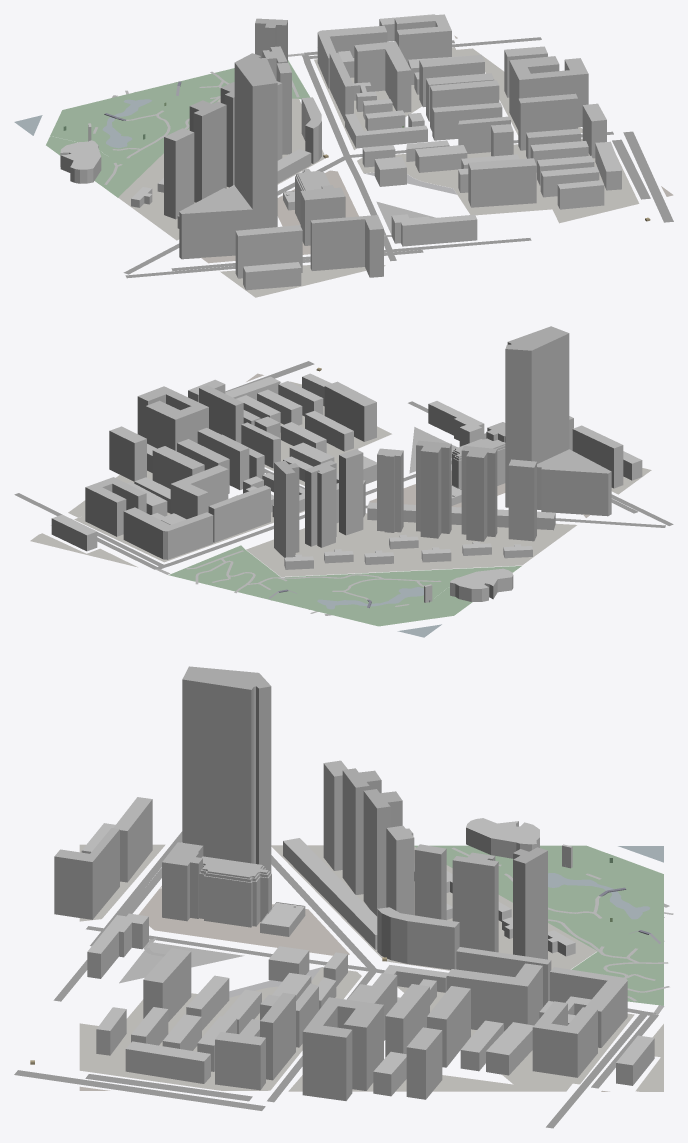
The picture shows the model from 3 angles, top to bottom: view 1: azimuth 30°, elevation 25°; view 2: azimuth 150°, elevation 25°; view 3: azimuth 270°, elevation 25°; orthographic projection. The views are drawn at different scales.
Bounding box in the file's own units: 666 × 194 × 565.
